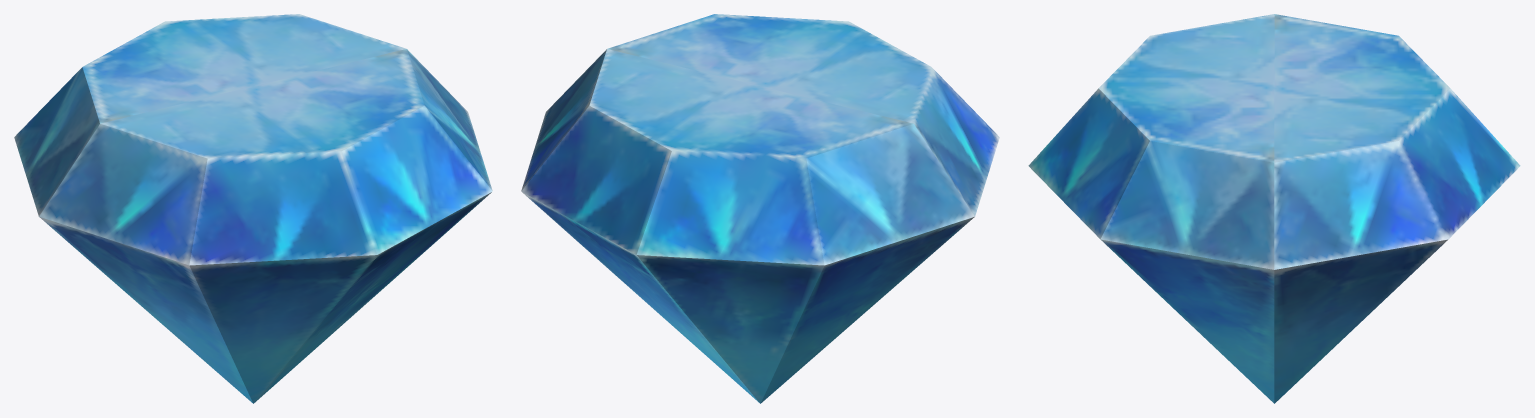
The model's file is baoshi01_53_58_4329out.fbx.
3 views of the same model, side by side, from view 1: azimuth 30°, elevation 25°; view 2: azimuth 150°, elevation 25°; view 3: azimuth 270°, elevation 25° (orthographic).
Parts seen in each view (by area): view 1: baoshi01; view 2: baoshi01; view 3: baoshi01.
Part boxes in pixels (left/top/right/bottom): baoshi01: left=14, top=14, right=492, bottom=403; baoshi01: left=521, top=14, right=999, bottom=403; baoshi01: left=1028, top=14, right=1520, bottom=403.
Size of the model in its own units: 0.5004 by 0.354 by 0.5004.
